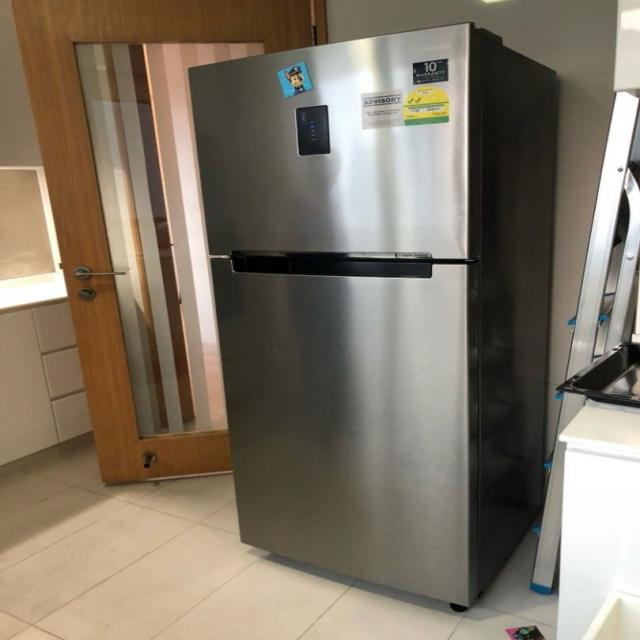refrigerator: (186, 22, 475, 607)
